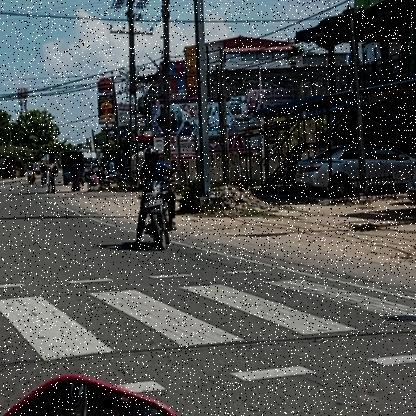motorcycle: (128, 178, 178, 253)
